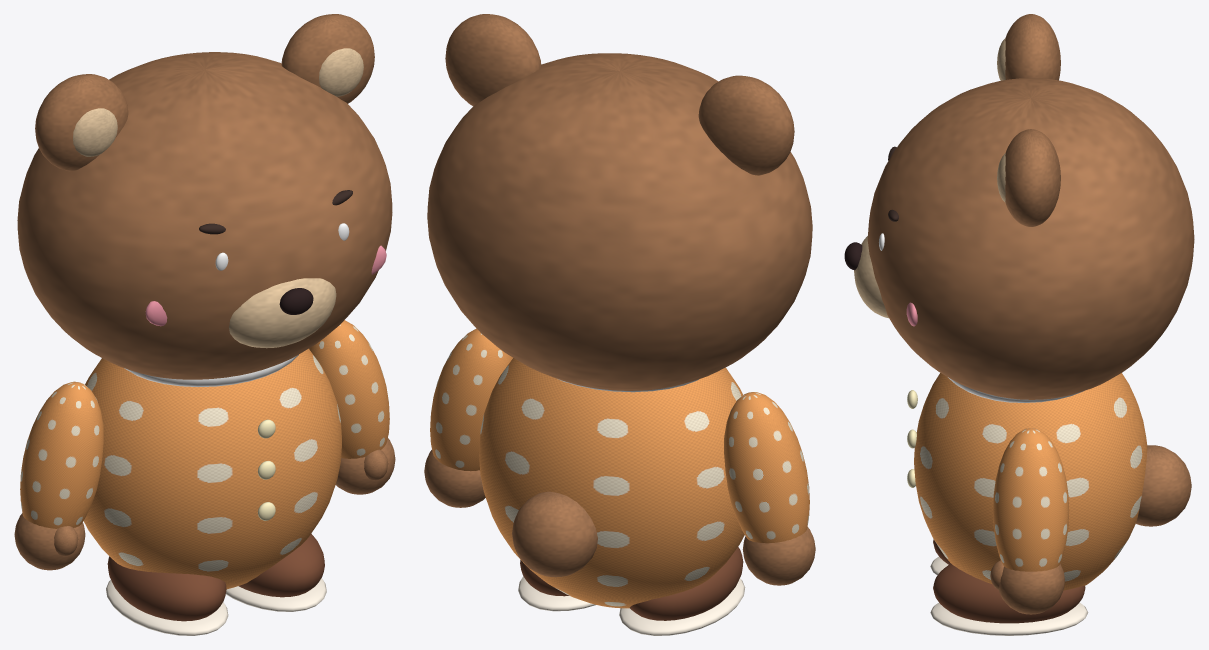
Rendered from villager_bear.glb.
3 renders of one model, left to right at view 1: azimuth 30°, elevation 25°; view 2: azimuth 150°, elevation 25°; view 3: azimuth 270°, elevation 25°, orthographic. The views are drawn at different scales.
Parts seen in each view (by area): view 1: HeadMesh, Body, ArmLMesh, ArmRMesh, Ear, Snout, FootLMesh, Ear.001, FootRMesh, ArmLHand, FootLSole, EarIn (+7 smaller); view 2: HeadMesh, Body, ArmLMesh, Ear, ArmRMesh, Ear.001, Tail, FootLMesh, ArmLHand, ArmRHand, FootLSole, FootRSole; view 3: HeadMesh, Body, ArmRMesh, Ear.001, FootRMesh, Tail, Ear, ArmRHand, FootRSole, Snout, Collar.
Boxes of the visible parts, <box> form: HeadMesh: <box>17,52,392,379</box>; Body: <box>83,348,341,589</box>; ArmLMesh: <box>20,381,103,528</box>; ArmRMesh: <box>309,320,389,458</box>; Ear: <box>35,74,128,171</box>; Snout: <box>229,278,336,348</box>; FootLMesh: <box>107,556,226,621</box>; Ear.001: <box>281,14,374,103</box>; FootRMesh: <box>238,533,324,597</box>; ArmLHand: <box>14,513,85,570</box>; FootLSole: <box>106,580,228,635</box>; EarIn: <box>73,108,117,156</box>; HeadMesh: <box>427,53,812,390</box>; Body: <box>479,358,744,608</box>; ArmLMesh: <box>724,392,809,543</box>; Ear: <box>698,75,794,175</box>; ArmRMesh: <box>430,328,512,471</box>; Ear.001: <box>445,14,541,106</box>; Tail: <box>512,491,597,577</box>; FootLMesh: <box>629,547,743,620</box>; ArmLHand: <box>742,527,815,585</box>; ArmRHand: <box>424,450,485,507</box>; FootLSole: <box>619,578,745,635</box>; FootRSole: <box>518,576,595,611</box>; HeadMesh: <box>867,78,1194,399</box>; Body: <box>914,373,1147,590</box>; ArmRMesh: <box>993,428,1069,571</box>; Ear.001: <box>1005,129,1060,226</box>; FootRMesh: <box>933,563,1085,623</box>; Tail: <box>1136,445,1191,526</box>; Ear: <box>1005,14,1060,80</box>; ArmRHand: <box>998,563,1064,614</box>; FootRSole: <box>930,602,1088,635</box>; Snout: <box>854,236,888,318</box>; Collar: <box>948,377,1083,402</box>.
Bounding box in the file's own units: 1.51 × 2.12 × 1.29.
12 materials, 3 textured.
